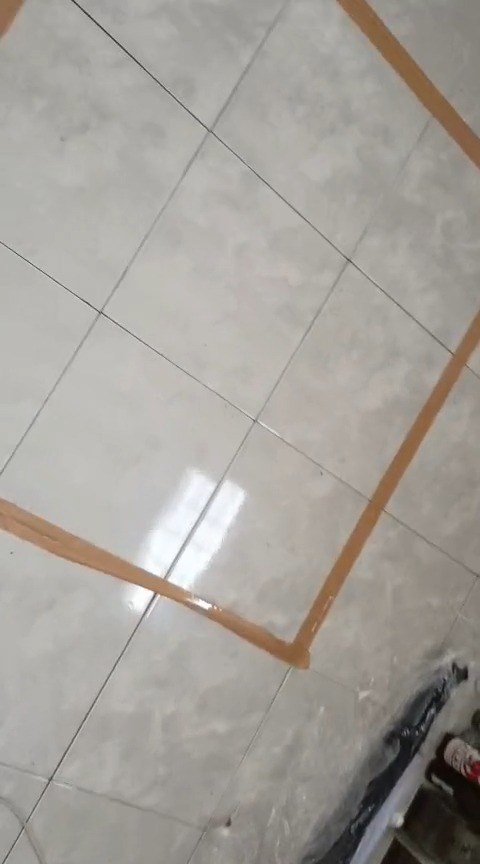floor marking: (158, 312, 479, 667), (338, 0, 479, 167), (0, 502, 155, 589), (0, 0, 23, 36)
